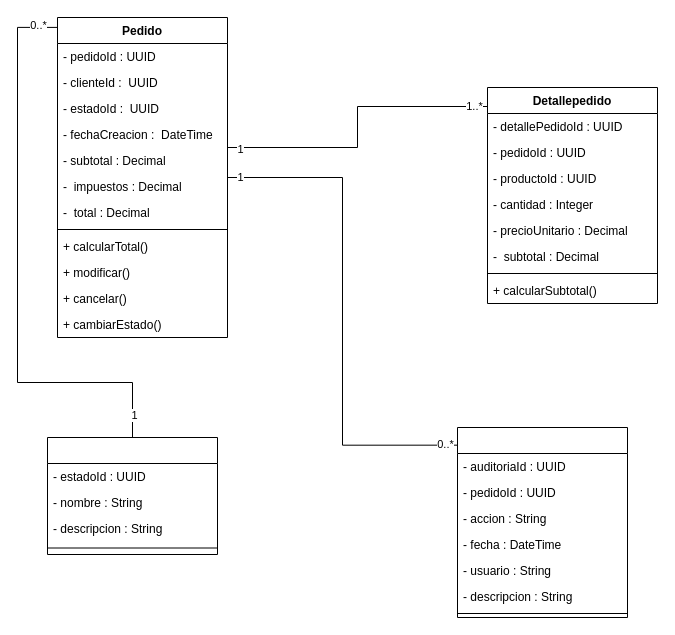
This 675x635 diagram has some shape labels left out. The box of each missing label's shape, as (x1, y1, x2, y2) in pixels:
AuditoriaPedido: (456, 426, 628, 618)
EstadoPedido: (46, 436, 218, 554)
